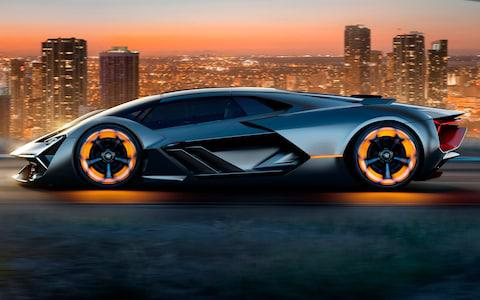car: (16, 81, 469, 220)
